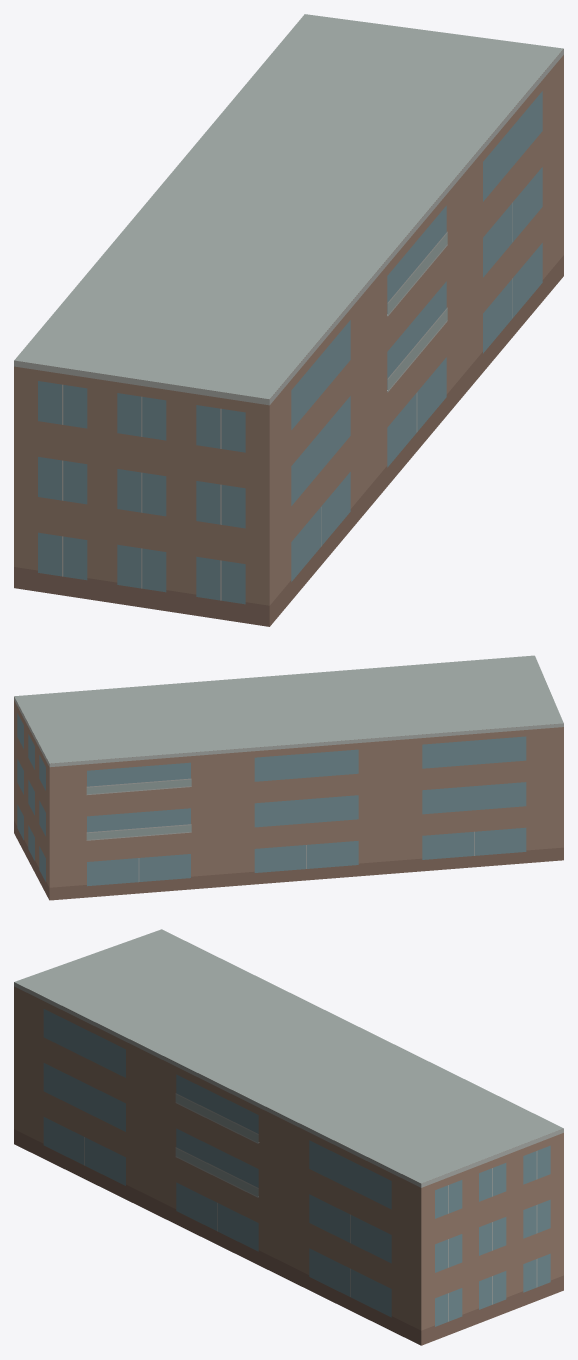
File: survey-upis-32627319.glb
3 renders of one model, top to bottom at view 1: azimuth 30°, elevation 25°; view 2: azimuth 150°, elevation 25°; view 3: azimuth 270°, elevation 25°, orthographic. The views are drawn at different scales.
Visible parts, largest first — view 1: survey-upis-32627319.tmp; view 2: survey-upis-32627319.tmp; view 3: survey-upis-32627319.tmp.
Boxes of the visible parts, box(x1,y1,x2,y2) form: survey-upis-32627319.tmp: box(14, 14, 563, 626); survey-upis-32627319.tmp: box(14, 655, 563, 900); survey-upis-32627319.tmp: box(14, 929, 563, 1345).
Size of the model in its own units: 30.8 by 9.15 by 28.14.
